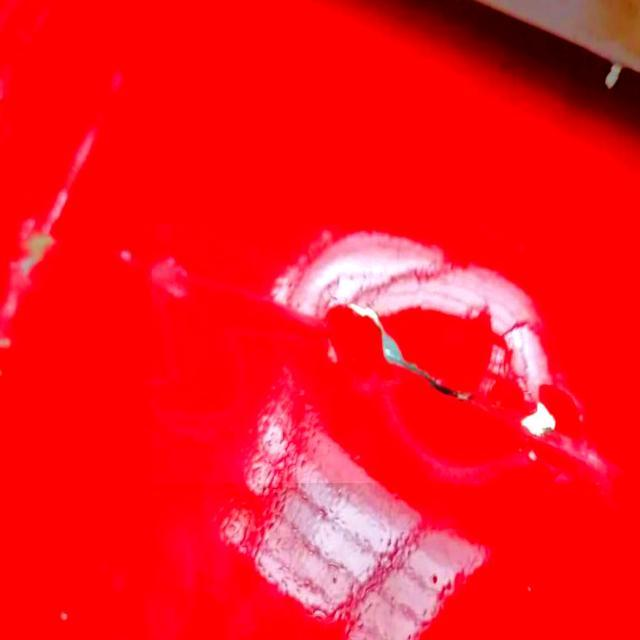crack: (153, 226, 598, 484)
